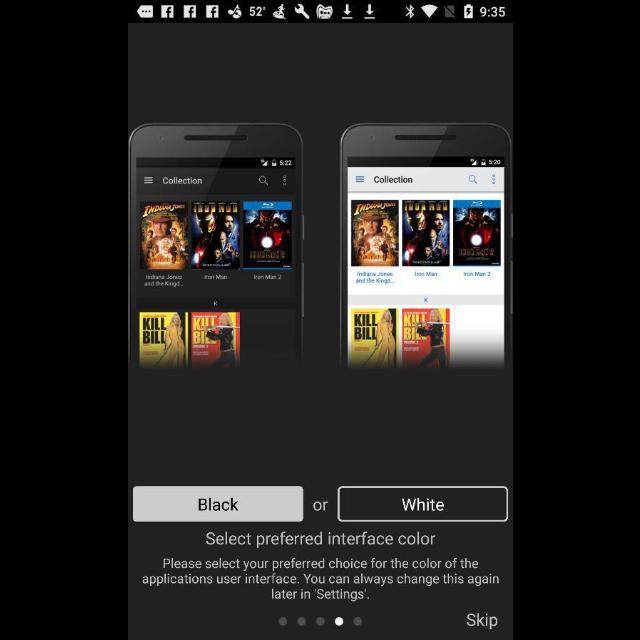image: (128, 122, 302, 372), (340, 122, 512, 372)
pageindicator: (278, 616, 362, 626)
text: (142, 558, 498, 602), (204, 532, 436, 548), (465, 612, 497, 630), (312, 500, 328, 512)
textbutton: (132, 486, 304, 522), (337, 486, 508, 522)
uppertaskbar: (128, 1, 512, 23)
